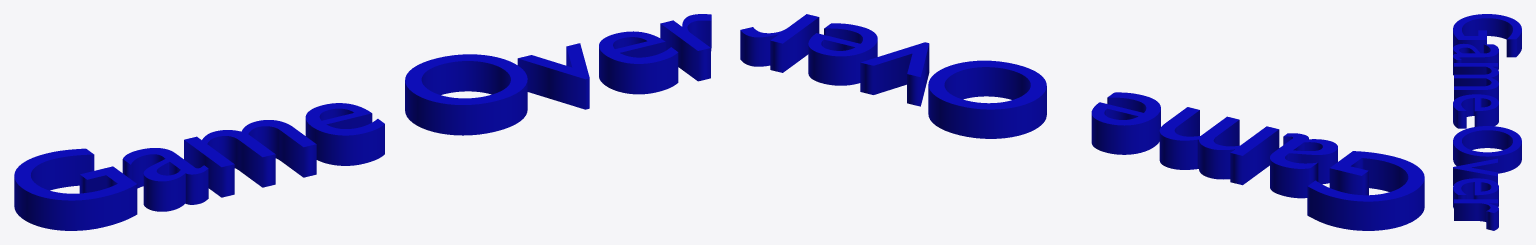
File: GameOver.obj
3 renders of one model, left to right at view 1: azimuth 30°, elevation 25°; view 2: azimuth 150°, elevation 25°; view 3: azimuth 270°, elevation 25°, orthographic. The views are drawn at different scales.
Visible parts, largest first — view 1: テキスト; view 2: テキスト; view 3: テキスト.
Boxes of the visible parts, left/top/right/bottom form: テキスト: left=14, top=14, right=711, bottom=230; テキスト: left=740, top=14, right=1424, bottom=230; テキスト: left=1453, top=14, right=1521, bottom=230.
Bounding box in the file's own units: 4.78 × 0.2 × 0.7.
